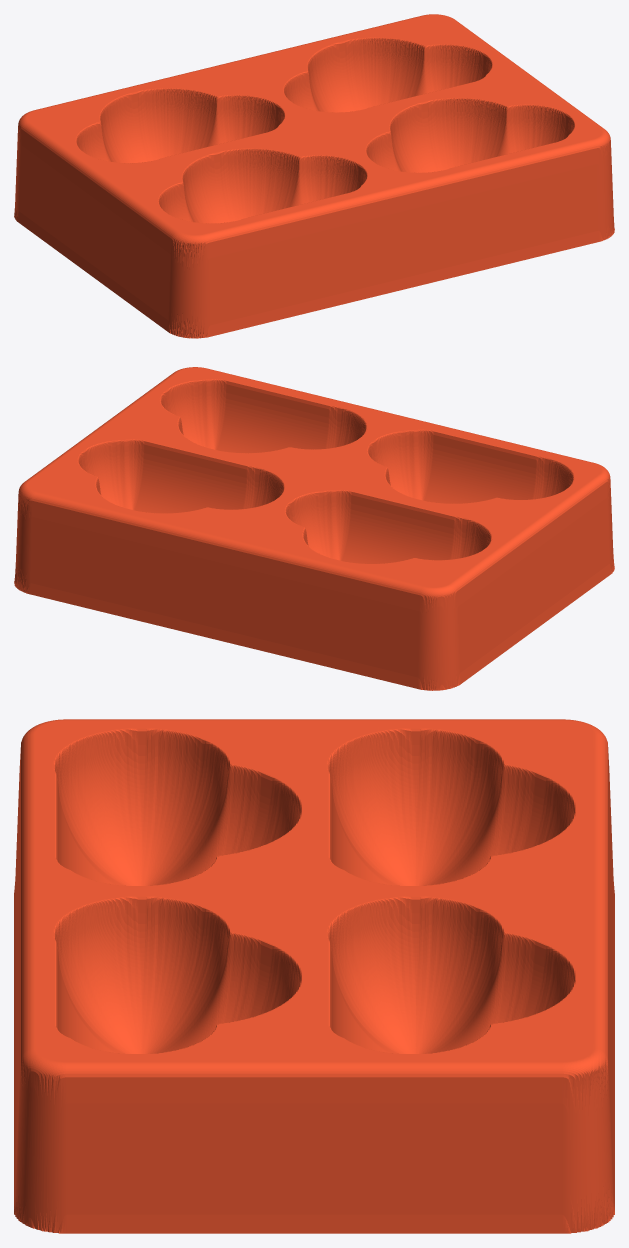
Rendered from mold.glb.
3 views of the same model, one above another, from view 1: azimuth 30°, elevation 25°; view 2: azimuth 150°, elevation 25°; view 3: azimuth 270°, elevation 25° (orthographic). The views are drawn at different scales.
Visible parts, largest first — view 1: geometry_0; view 2: geometry_0; view 3: geometry_0.
Part boxes in pixels (left/top/right/bottom): geometry_0: left=14, top=14, right=614, bottom=338; geometry_0: left=14, top=367, right=614, bottom=690; geometry_0: left=14, top=719, right=614, bottom=1233.
Size of the model in its own units: 0.1466 by 0.031 by 0.1038.
